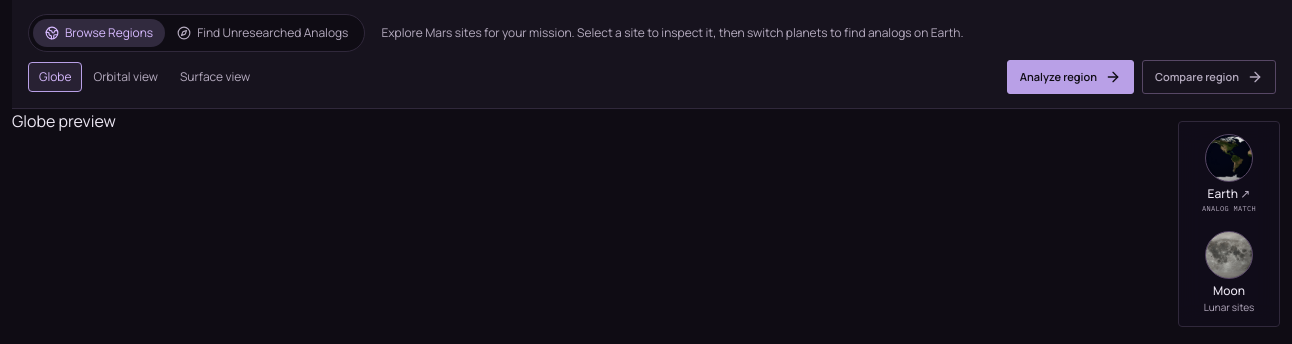
it: Explore imagery › does not substitute orbital imagery for a missing surface view
The image size is (1292, 344).
Step 1. Click the button "Surface view" → (215, 77), box [169, 62, 261, 92]
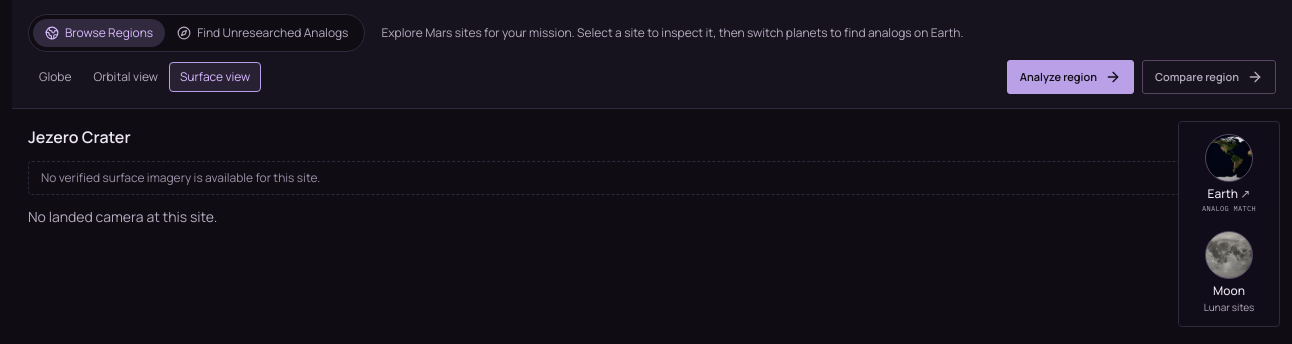
Expected: the text "No verified surface imagery is available for this site." is shown, [28, 161, 1276, 195]
